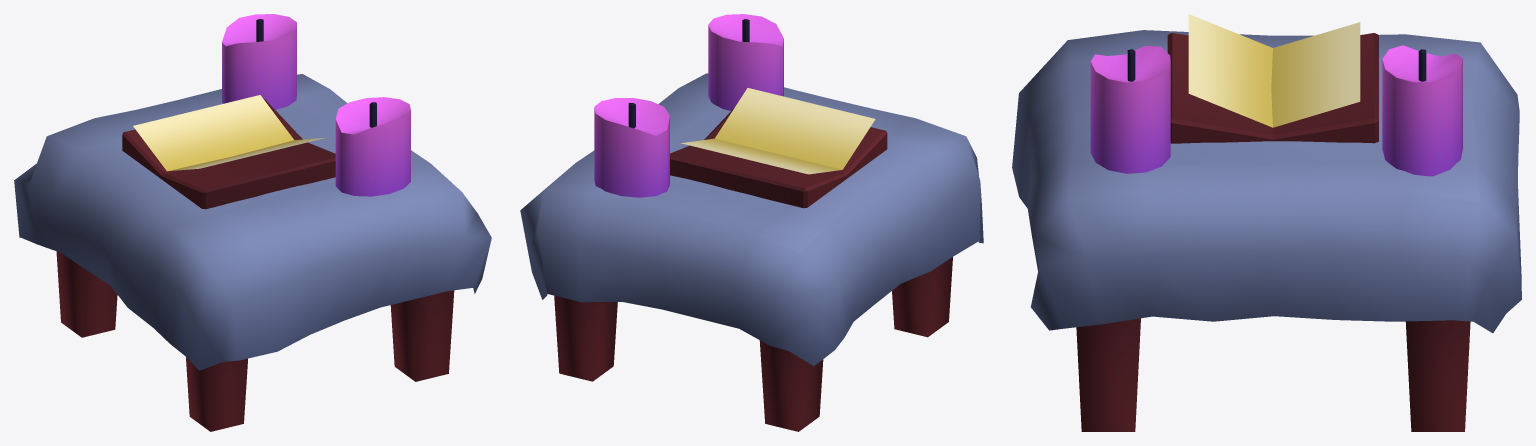
File: spell_table_03.fbx
3 views of the same model, side by side, from view 1: azimuth 30°, elevation 25°; view 2: azimuth 150°, elevation 25°; view 3: azimuth 270°, elevation 25° (orthographic). The views are drawn at different scales.
Visible parts, largest first — view 1: Spell_table; view 2: Spell_table; view 3: Spell_table.
Boxes of the visible parts, <box> form: Spell_table: <box>14,14,491,431</box>; Spell_table: <box>520,14,983,431</box>; Spell_table: <box>1012,14,1521,431</box>.
Size of the model in its own units: 1.9 by 1.55 by 2.07.
